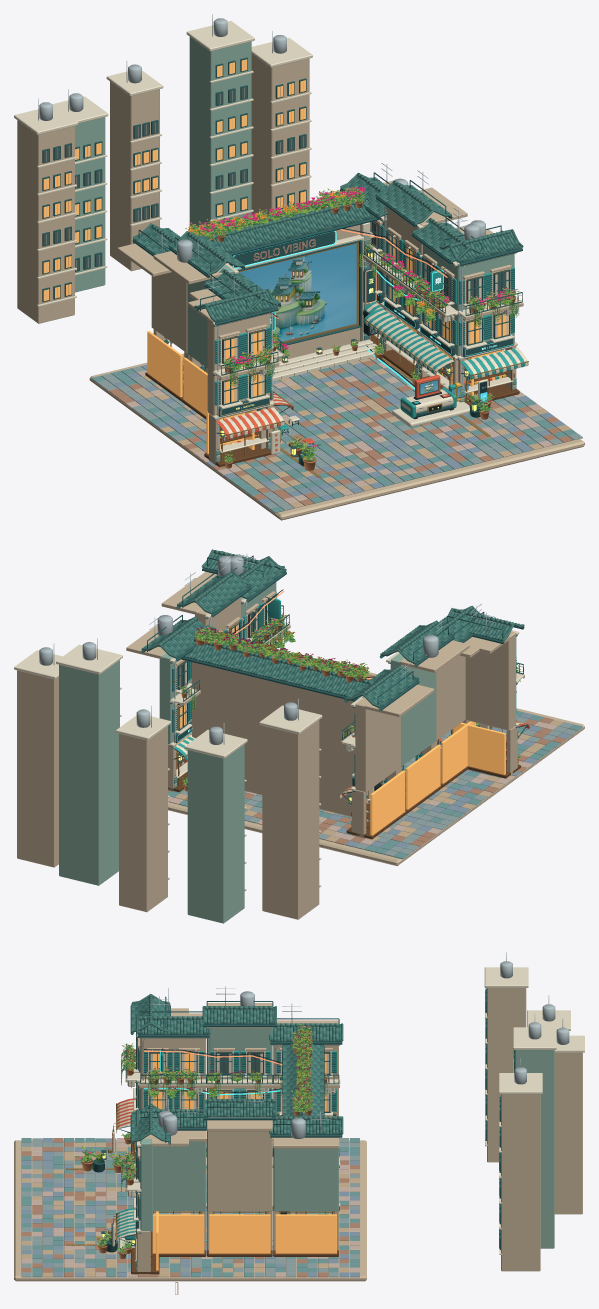
Rendered from courtyard-v02.4-flat-theme-meshopt.glb.
The picture shows the model from 3 angles, top to bottom: view 1: azimuth 30°, elevation 25°; view 2: azimuth 150°, elevation 25°; view 3: azimuth 270°, elevation 25°; orthographic projection. The views are drawn at different scales.
Parts seen in each view (by area): view 1: Browser / SoloVibingRoot / V02 / buttermilk mineral plaster, Browser / SoloVibingRoot / V02 / warm porcelain enamel, Browser / SoloVibingRoot / V02 / petrol lacquer, Browser / SoloVibingRoot / V02 / celadon limewash, Browser / SoloVibingRoot / V02 / warm shop interior, Browser / SoloVibingRoot / V02 / courtyard glazed paver 2, Browser / SoloVibingRoot / V02 / courtyard glazed paver 0, ScreenSurface, Browser / SoloVibingRoot / V02 / courtyard glazed paver 4, Browser / SoloVibingRoot / V02 / glazed jade barrel tile 3, Browser / SoloVibingRoot / V02 / lagoon powdercoat, Browser / SoloVibingRoot / V02 / glazed jade barrel tile 2 (+20 smaller); view 2: Browser / SoloVibingRoot / V02 / buttermilk mineral plaster, Browser / SoloVibingRoot / V02 / celadon limewash, Browser / SoloVibingRoot / V02 / warm porcelain enamel, Browser / SoloVibingRoot / V02 / warm shop interior, Browser / SoloVibingRoot / V02 / glazed jade barrel tile 3, Browser / SoloVibingRoot / V02 / petrol lacquer, Browser / SoloVibingRoot / V02 / glazed jade barrel tile 2, Browser / SoloVibingRoot / V02 / satin aluminum, Browser / SoloVibingRoot / V02 / courtyard glazed paver 0, Browser / SoloVibingRoot / V02 / glazed jade barrel tile 1, Browser / SoloVibingRoot / V02 / glazed jade barrel tile 0, Browser / SoloVibingRoot / V02 / glazed jade barrel tile 4 (+13 smaller); view 3: Browser / SoloVibingRoot / V02 / buttermilk mineral plaster, Browser / SoloVibingRoot / V02 / celadon limewash, Browser / SoloVibingRoot / V02 / warm porcelain enamel, Browser / SoloVibingRoot / V02 / warm shop interior, Browser / SoloVibingRoot / V02 / petrol lacquer, Browser / SoloVibingRoot / V02 / courtyard glazed paver 2, Browser / SoloVibingRoot / V02 / courtyard glazed paver 0, Browser / SoloVibingRoot / V02 / courtyard glazed paver 4, Browser / SoloVibingRoot / V02 / glazed jade barrel tile 3, Browser / SoloVibingRoot / V02 / glazed jade barrel tile 2, Browser / SoloVibingRoot / V02 / courtyard glazed paver 3, Browser / SoloVibingRoot / V02 / satin aluminum (+17 smaller).
Boxes of the visible parts, x1,y1,x2,y2 form: Browser / SoloVibingRoot / V02 / buttermilk mineral plaster: (17, 54, 584, 520); Browser / SoloVibingRoot / V02 / warm porcelain enamel: (14, 21, 528, 454); Browser / SoloVibingRoot / V02 / petrol lacquer: (42, 57, 522, 465); Browser / SoloVibingRoot / V02 / celadon limewash: (75, 37, 514, 367); Browser / SoloVibingRoot / V02 / warm shop interior: (43, 59, 508, 453); Browser / SoloVibingRoot / V02 / courtyard glazed paver 2: (91, 364, 576, 512); Browser / SoloVibingRoot / V02 / courtyard glazed paver 0: (97, 320, 582, 510); ScreenSurface: (238, 243, 356, 342); Browser / SoloVibingRoot / V02 / courtyard glazed paver 4: (113, 362, 565, 504); Browser / SoloVibingRoot / V02 / glazed jade barrel tile 3: (137, 173, 519, 320); Browser / SoloVibingRoot / V02 / lagoon powdercoat: (214, 225, 524, 430); Browser / SoloVibingRoot / V02 / glazed jade barrel tile 2: (133, 173, 523, 322); Browser / SoloVibingRoot / V02 / buttermilk mineral plaster: (17, 571, 584, 919); Browser / SoloVibingRoot / V02 / celadon limewash: (59, 582, 436, 923); Browser / SoloVibingRoot / V02 / warm porcelain enamel: (14, 593, 525, 890); Browser / SoloVibingRoot / V02 / warm shop interior: (176, 622, 505, 835); Browser / SoloVibingRoot / V02 / glazed jade barrel tile 3: (148, 550, 514, 703); Browser / SoloVibingRoot / V02 / petrol lacquer: (141, 555, 527, 804); Browser / SoloVibingRoot / V02 / glazed jade barrel tile 2: (141, 549, 524, 708); Browser / SoloVibingRoot / V02 / satin aluminum: (39, 554, 516, 776); Browser / SoloVibingRoot / V02 / courtyard glazed paver 0: (180, 657, 577, 856); Browser / SoloVibingRoot / V02 / glazed jade barrel tile 1: (143, 554, 520, 707); Browser / SoloVibingRoot / V02 / glazed jade barrel tile 0: (150, 554, 522, 706); Browser / SoloVibingRoot / V02 / glazed jade barrel tile 4: (149, 551, 510, 705); Browser / SoloVibingRoot / V02 / buttermilk mineral plaster: (14, 988, 582, 1281); Browser / SoloVibingRoot / V02 / celadon limewash: (140, 1028, 554, 1248); Browser / SoloVibingRoot / V02 / warm porcelain enamel: (112, 967, 584, 1261); Browser / SoloVibingRoot / V02 / warm shop interior: (137, 1018, 499, 1270); Browser / SoloVibingRoot / V02 / petrol lacquer: (92, 988, 514, 1252); Browser / SoloVibingRoot / V02 / courtyard glazed paver 2: (21, 1138, 359, 1277); Browser / SoloVibingRoot / V02 / courtyard glazed paver 0: (21, 1138, 359, 1277); Browser / SoloVibingRoot / V02 / courtyard glazed paver 4: (21, 1138, 359, 1277); Browser / SoloVibingRoot / V02 / glazed jade barrel tile 3: (131, 994, 342, 1139); Browser / SoloVibingRoot / V02 / glazed jade barrel tile 2: (131, 994, 343, 1142); Browser / SoloVibingRoot / V02 / courtyard glazed paver 3: (21, 1142, 359, 1277); Browser / SoloVibingRoot / V02 / satin aluminum: (131, 952, 569, 1198).
Size of the model in its own units: 23.28 by 21.56 by 40.45.
Materials: 128 (1 with a texture image).
